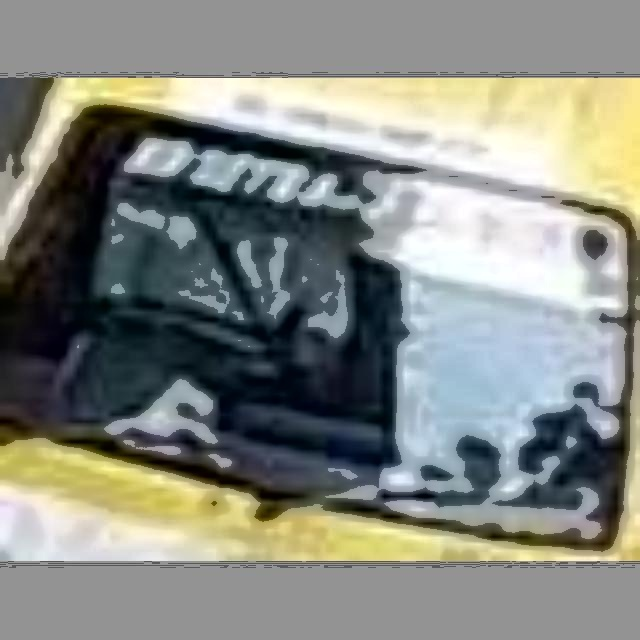pakai: (123, 167, 361, 412)
